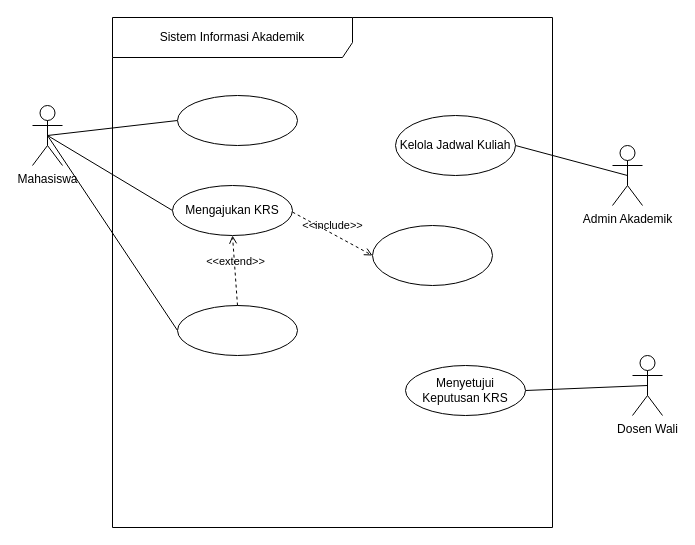
Some shapes in this 695 by 545 pixel diagram are drawn without their labels. The shapes that lost their labels are listed below. From the top down, each one's box as (x1, y1, x2, y2) in pixels, then its label:
(176, 94, 298, 146): Melihat Jadwal Kuliah
(372, 224, 492, 286): Validasi KRS
(176, 304, 298, 356): Unduh Bukti Pengajuan KRS
